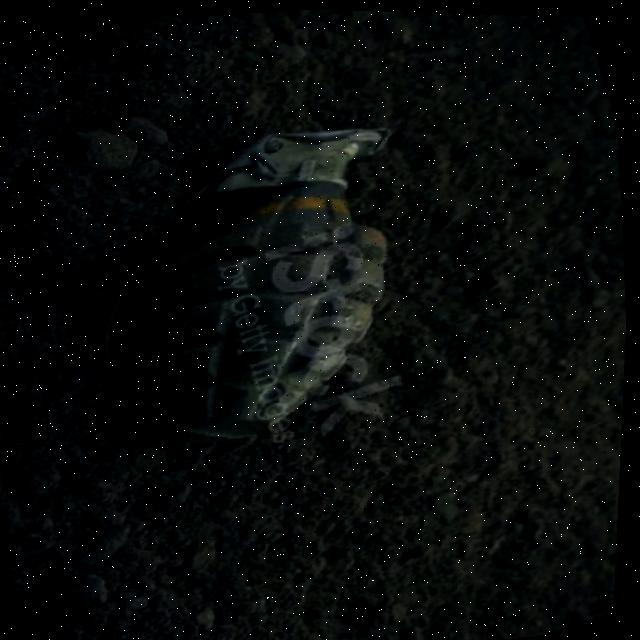grenade: (48, 86, 469, 479)
